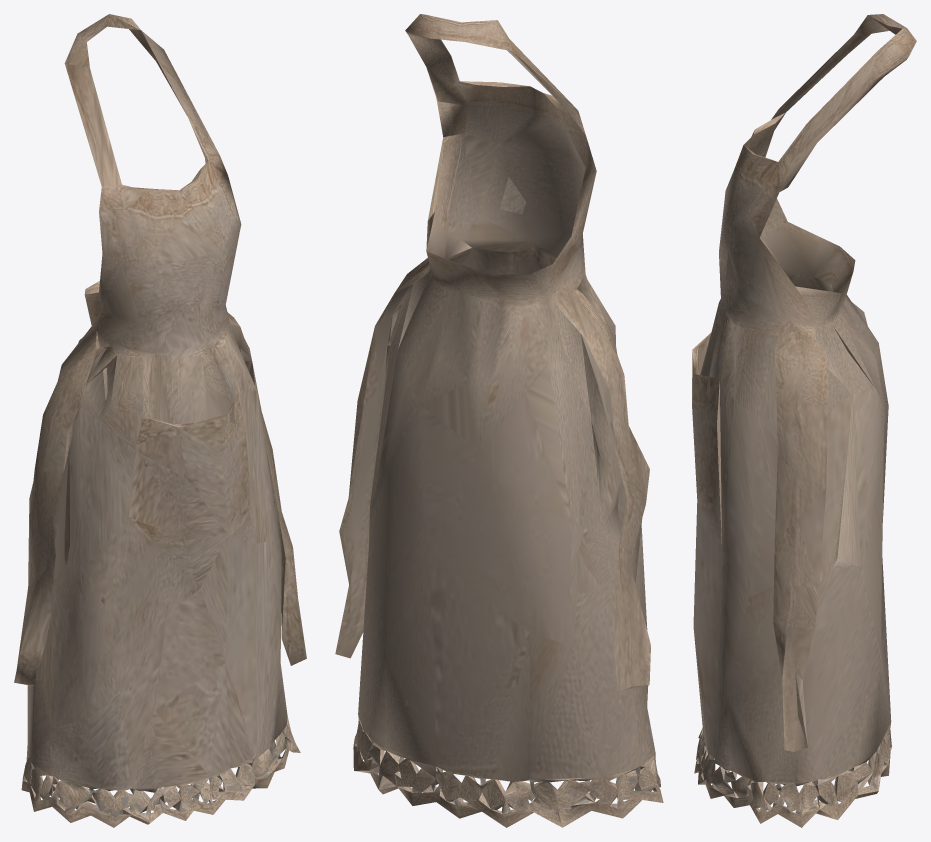
File: apron.glb
The picture shows the model from 3 angles, left to right: view 1: azimuth 30°, elevation 25°; view 2: azimuth 150°, elevation 25°; view 3: azimuth 270°, elevation 25°; orthographic projection. The views are drawn at different scales.
Visible parts, largest first — view 1: apron; view 2: apron; view 3: apron.
Boxes of the visible parts, x1,y1,x2,y2 form: apron: (14,14,306,827); apron: (335,14,663,827); apron: (692,14,916,827).
Size of the model in its own units: 0.3879 by 0.95 by 0.2602.
Materials: 1 (1 with a texture image).
